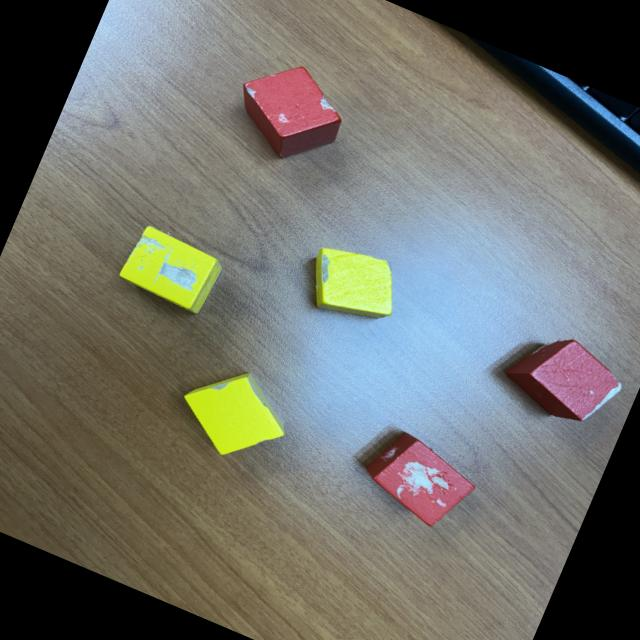broken: (220, 46, 356, 176), (168, 353, 302, 479), (495, 320, 630, 438), (352, 422, 482, 536), (296, 234, 409, 337), (114, 221, 226, 319)
